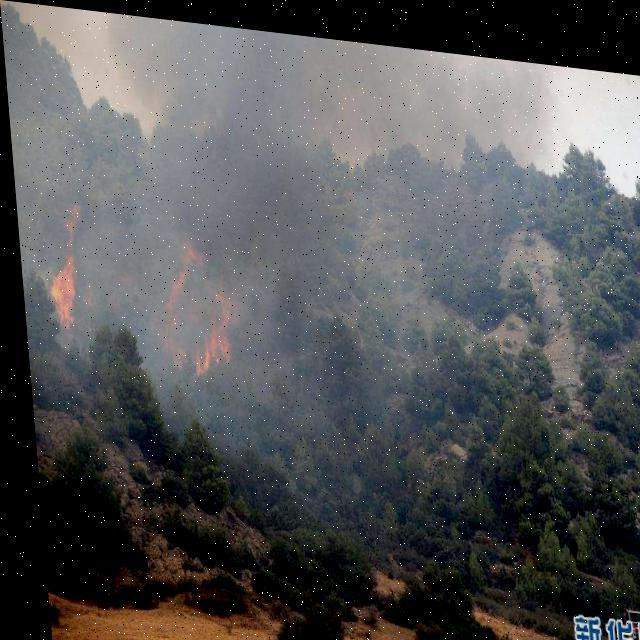Fire: (148, 235, 232, 382), (36, 202, 93, 340)
